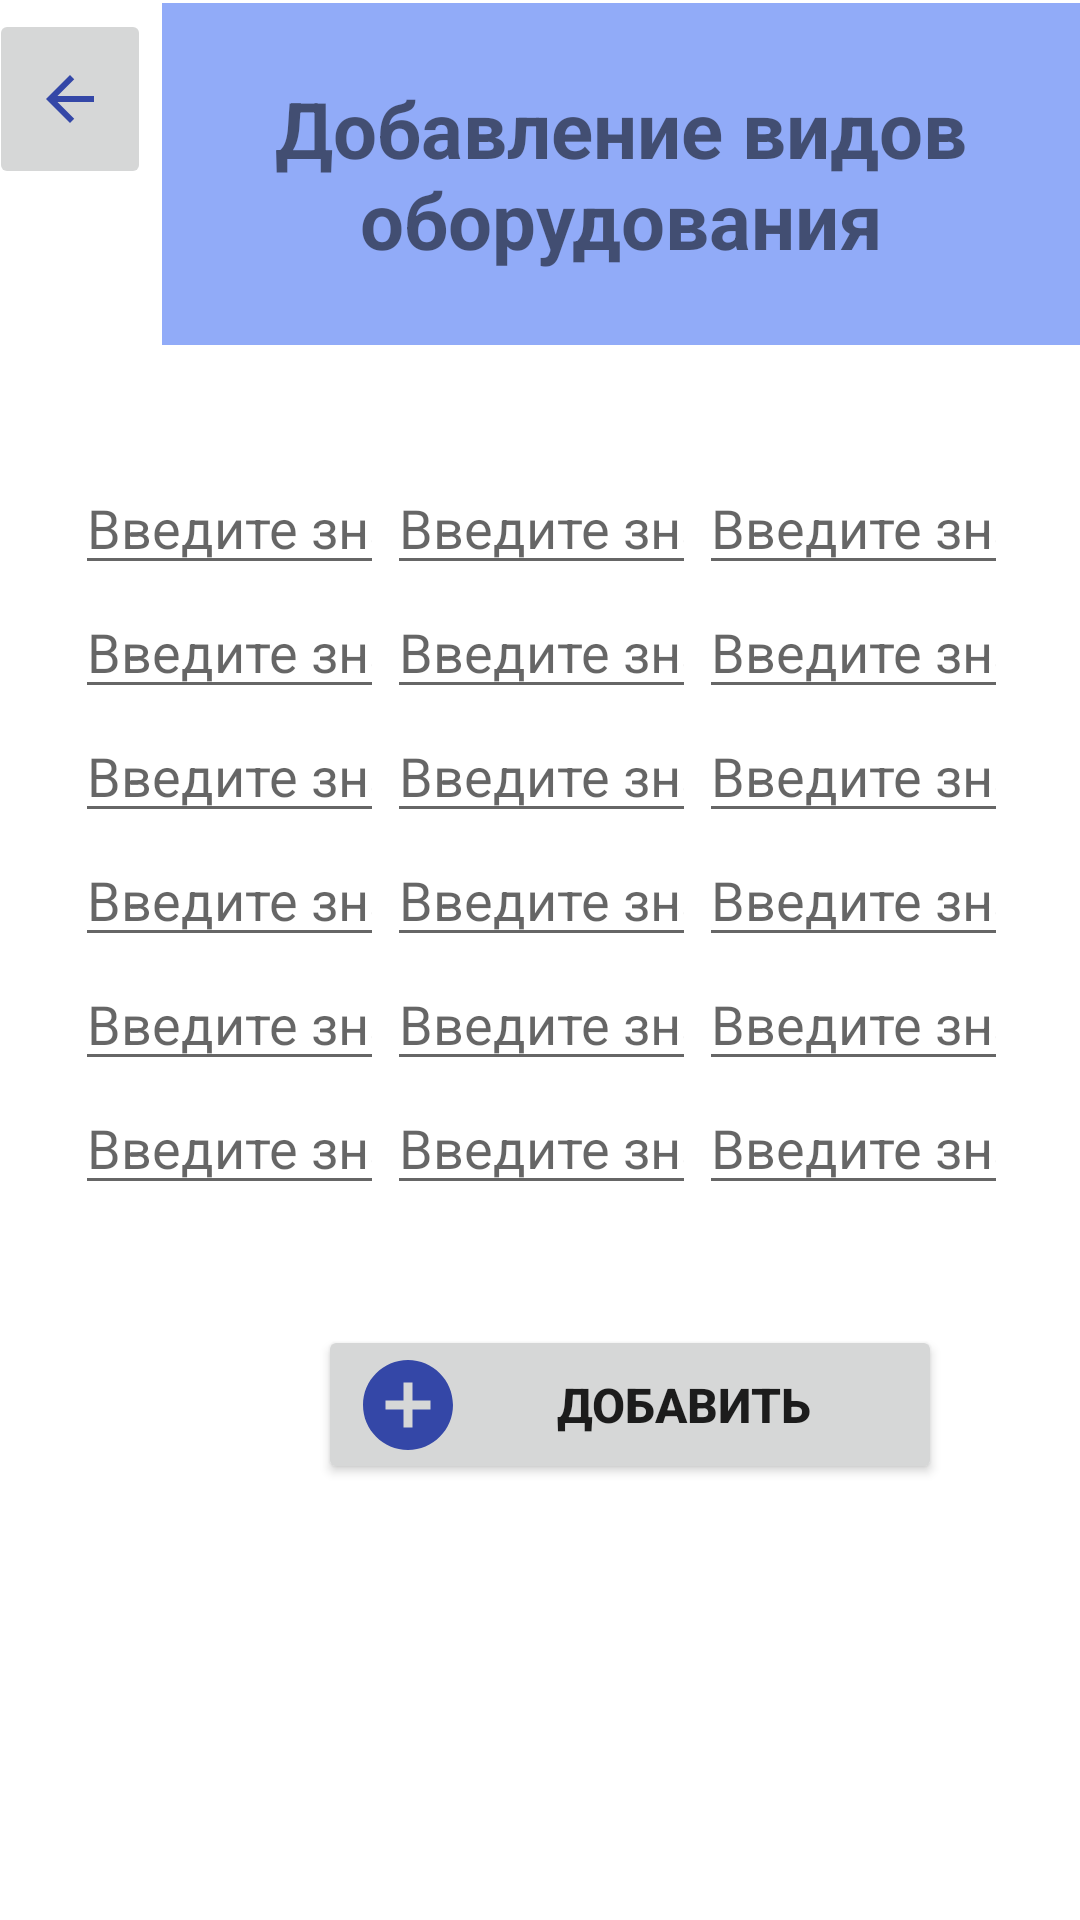

Icon click points for this 1080px×1920px phone screenshot, format (x=x, y=y):
arrow back: (x=70, y=99)
